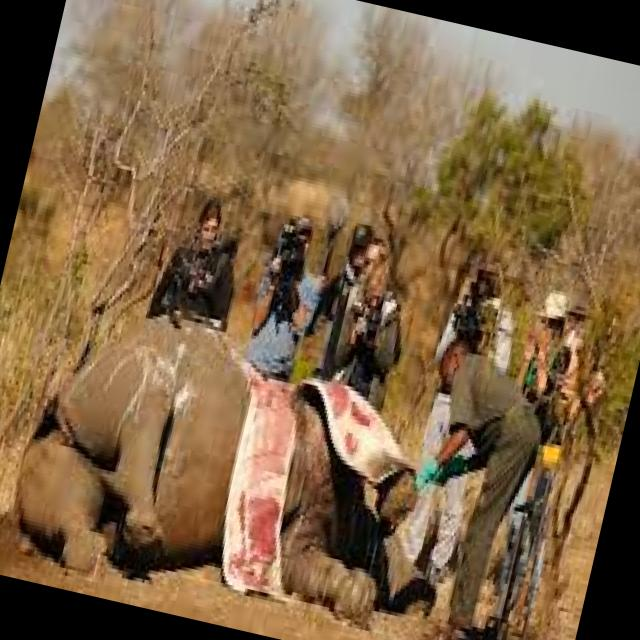elephant: (17, 314, 460, 608)
ranger: (362, 302, 522, 618), (490, 266, 604, 532), (130, 157, 251, 400), (230, 174, 340, 416), (313, 235, 413, 422)
